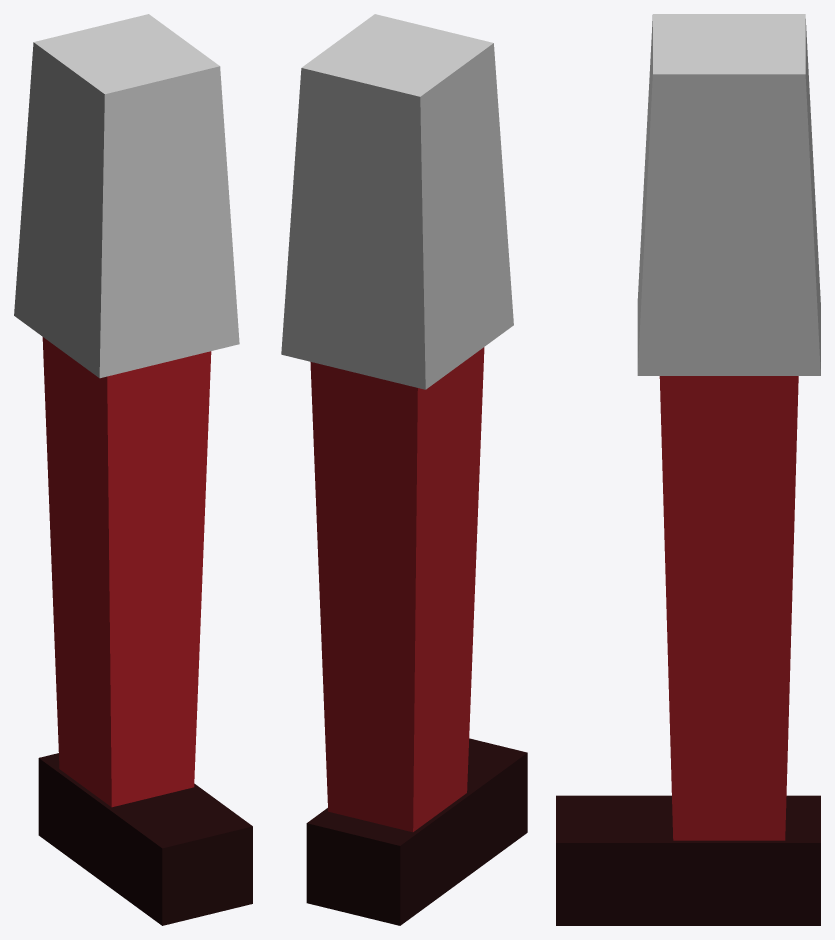
Rendered from leg_k00.glb.
3 renders of one model, left to right at view 1: azimuth 30°, elevation 25°; view 2: azimuth 150°, elevation 25°; view 3: azimuth 270°, elevation 25°, orthographic. The views are drawn at different scales.
Parts seen in each view (by area): view 1: leg_kit; view 2: leg_kit; view 3: leg_kit.
Part boxes in pixels (box(x1,y1,x2,y2)): leg_kit: box(14, 14, 252, 925); leg_kit: box(281, 14, 527, 925); leg_kit: box(556, 14, 820, 925).
Size of the model in its own units: 0.17 by 0.93 by 0.26.
